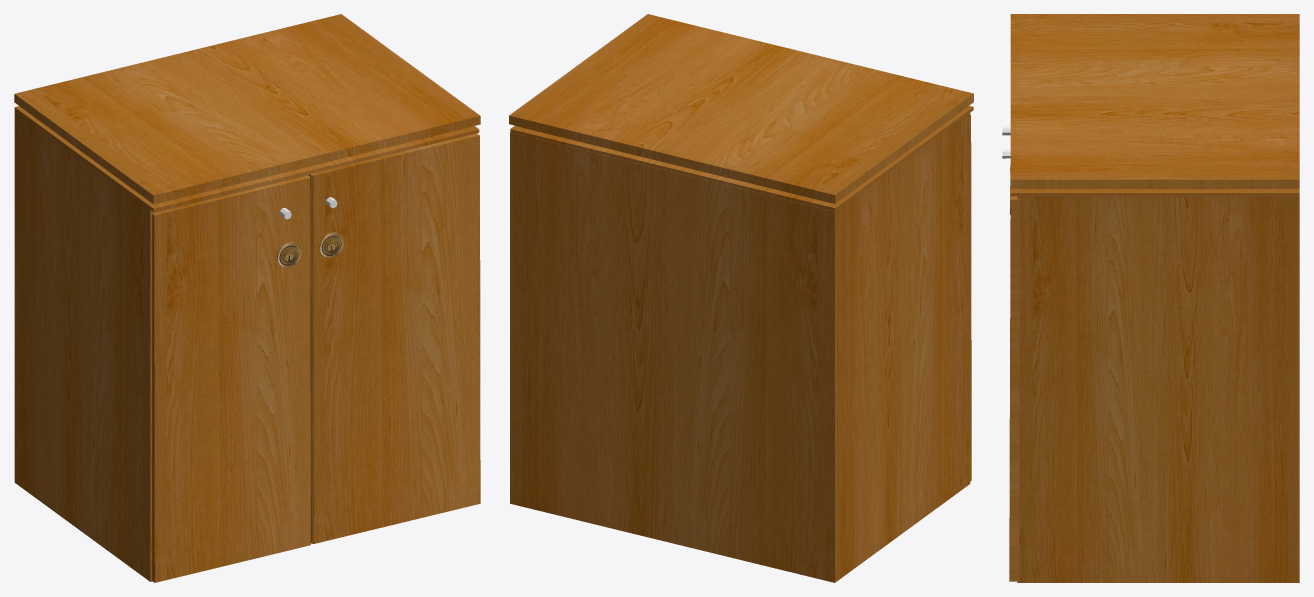
The model's file is Small cupboard locker .fbx.
3 views of the same model, side by side, from view 1: azimuth 30°, elevation 25°; view 2: azimuth 150°, elevation 25°; view 3: azimuth 270°, elevation 25° (orthographic). The views are drawn at different scales.
Parts seen in each view (by area): view 1: polySurface472, polySurface474, polySurface473; view 2: polySurface472, polySurface473; view 3: polySurface472, polySurface474.
Part boxes in pixels (x1=…): polySurface472: x1=14, y1=14, x2=480, y2=581; polySurface474: x1=309, y1=133, x2=480, y2=543; polySurface473: x1=152, y1=175, x2=310, y2=582; polySurface472: x1=509, y1=14, x2=973, y2=582; polySurface473: x1=970, y1=115, x2=971, y2=481; polySurface472: x1=1010, y1=14, x2=1299, y2=582; polySurface474: x1=1009, y1=196, x2=1020, y2=581.
Bounding box in the file's own units: 10.01 × 11.38 × 7.59.
